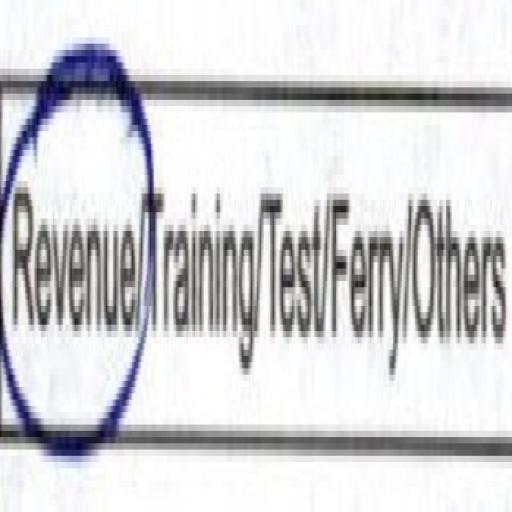check: (0, 19, 142, 478)
